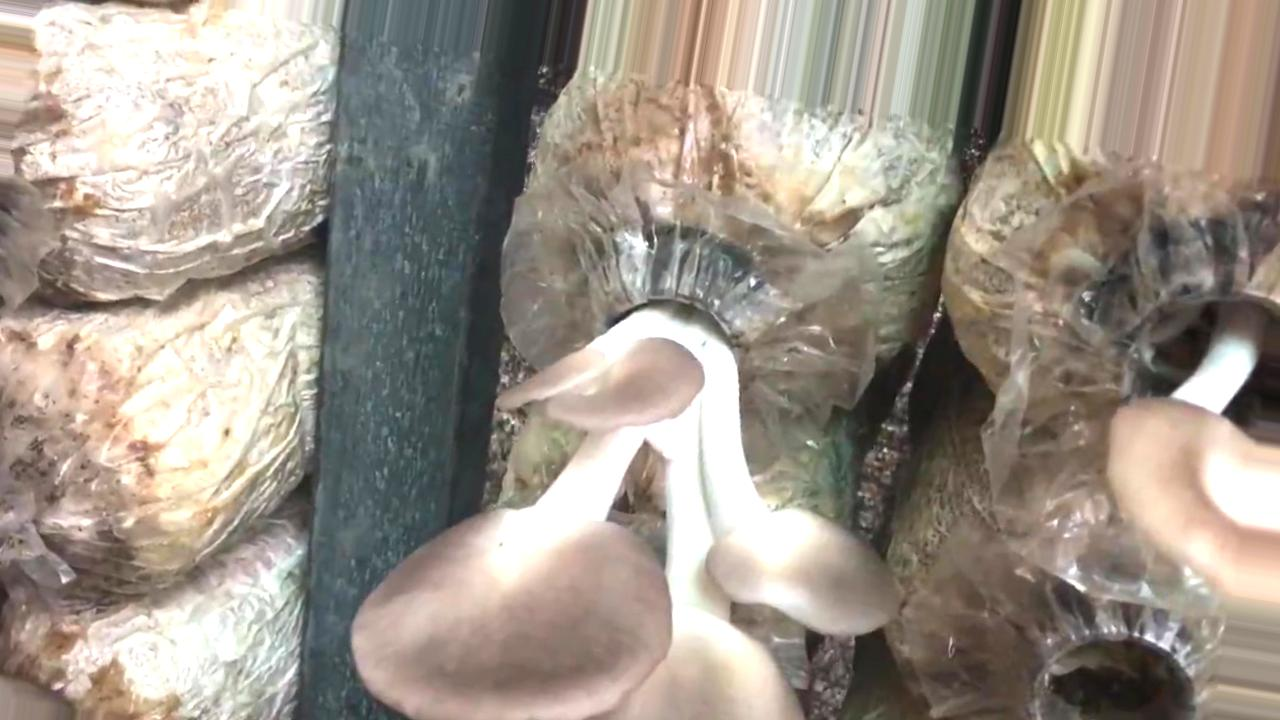nam: (354, 245, 903, 720), (1106, 259, 1280, 601)
